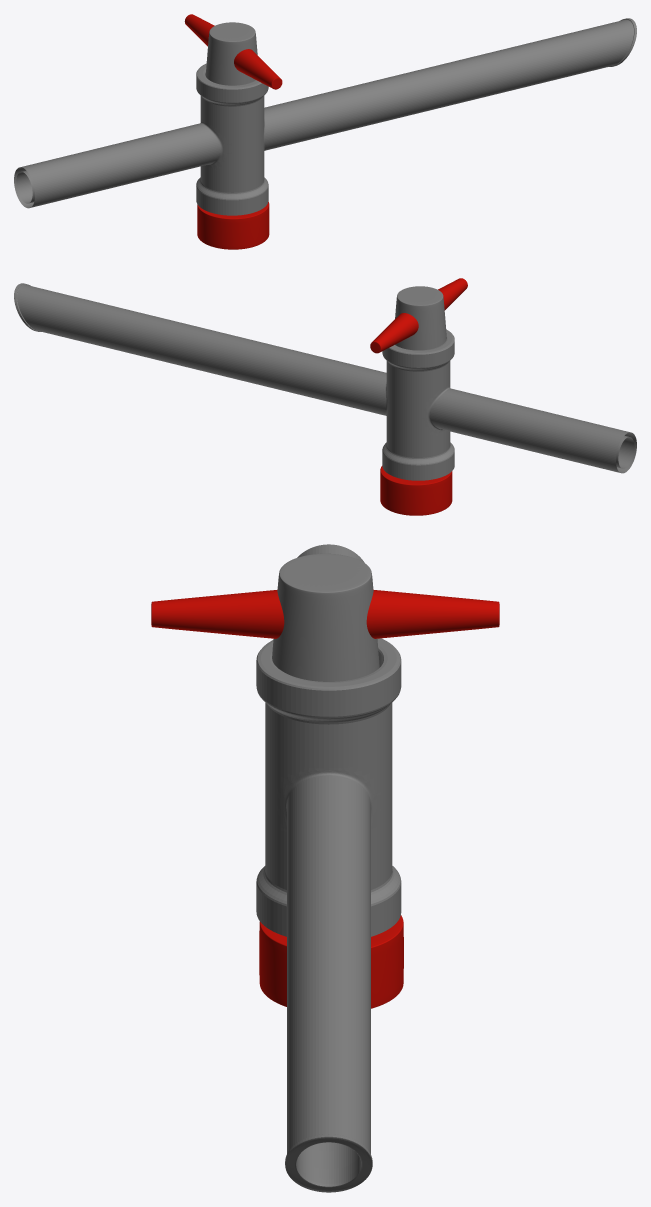
The model's file is 分液管.FBX.
3 renders of one model, top to bottom at view 1: azimuth 30°, elevation 25°; view 2: azimuth 150°, elevation 25°; view 3: azimuth 270°, elevation 25°, orthographic. The views are drawn at different scales.
Parts seen in each view (by area): view 1: 对象, lengningguan_02_gaunzi_polySurface1, lengningguan_02_polySurface4_lengningguan_02_gaunzi; view 2: 对象, lengningguan_02_gaunzi_polySurface1, lengningguan_02_polySurface4_lengningguan_02_gaunzi; view 3: 对象, lengningguan_02_gaunzi_polySurface1, lengningguan_02_polySurface4_lengningguan_02_gaunzi.
Boxes of the visible parts, left/top/right/bottom form: 对象: left=14, top=18, right=636, bottom=215; lengningguan_02_gaunzi_polySurface1: left=184, top=14, right=282, bottom=89; lengningguan_02_polySurface4_lengningguan_02_gaunzi: left=197, top=202, right=269, bottom=249; 对象: left=14, top=283, right=636, bottom=480; lengningguan_02_gaunzi_polySurface1: left=370, top=278, right=467, bottom=353; lengningguan_02_polySurface4_lengningguan_02_gaunzi: left=380, top=466, right=452, bottom=515; 对象: left=256, top=544, right=401, bottom=1192; lengningguan_02_gaunzi_polySurface1: left=151, top=553, right=499, bottom=681; lengningguan_02_polySurface4_lengningguan_02_gaunzi: left=259, top=915, right=403, bottom=1008.
Size of the model in its own units: 29.63 by 9.53 by 7.34.
